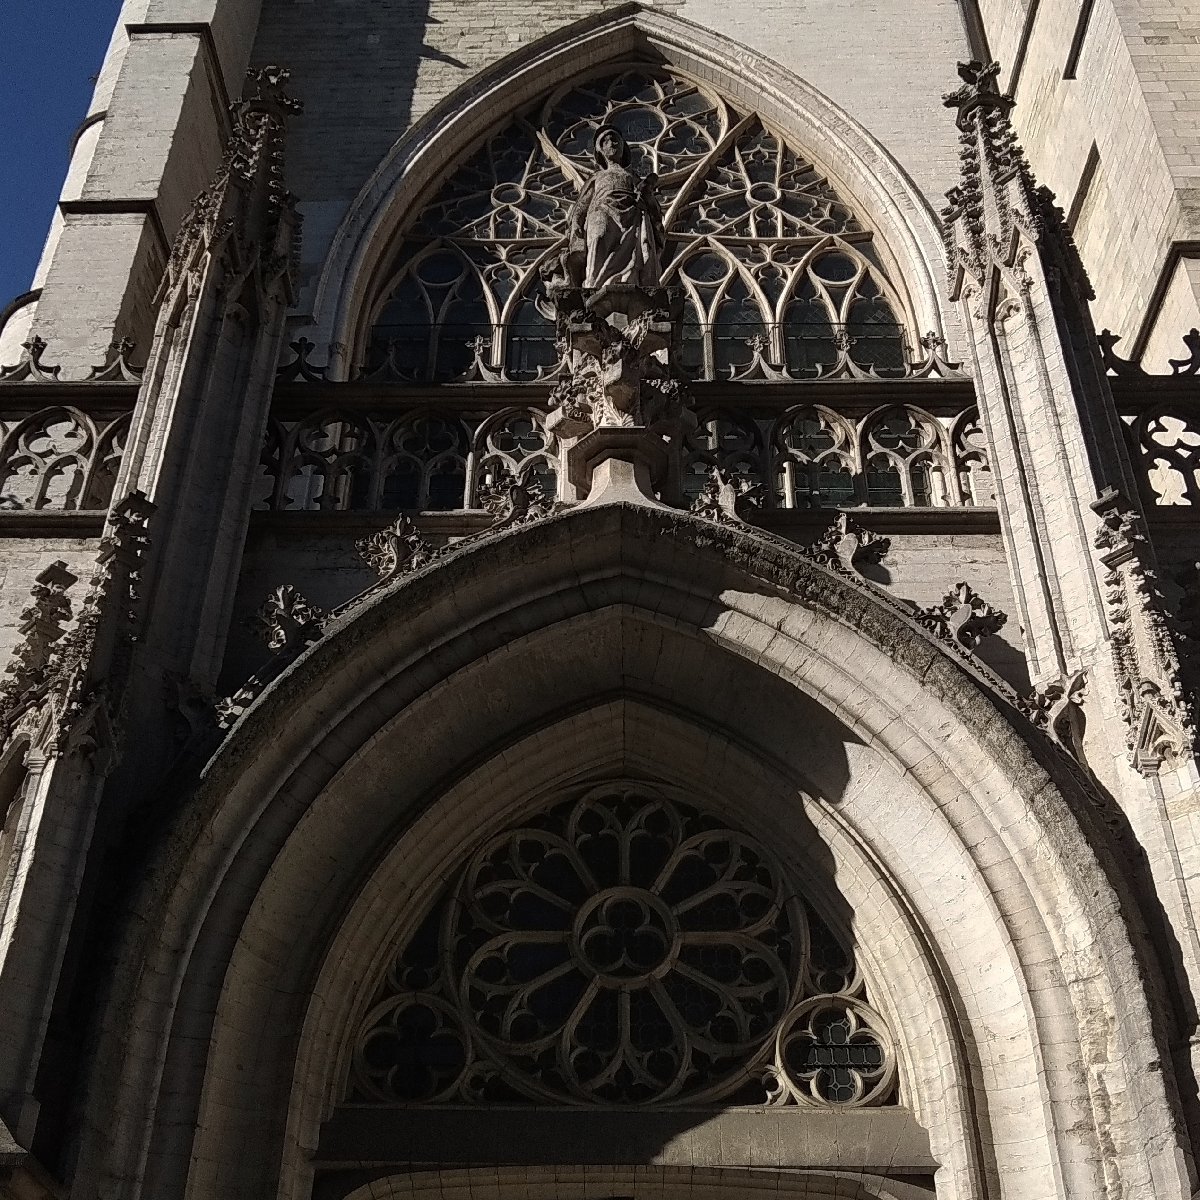arco-apuntado: (157, 540, 1137, 1052), (342, 1, 936, 307)
pinaculo-gotico: (165, 55, 302, 311), (937, 57, 1067, 279)
